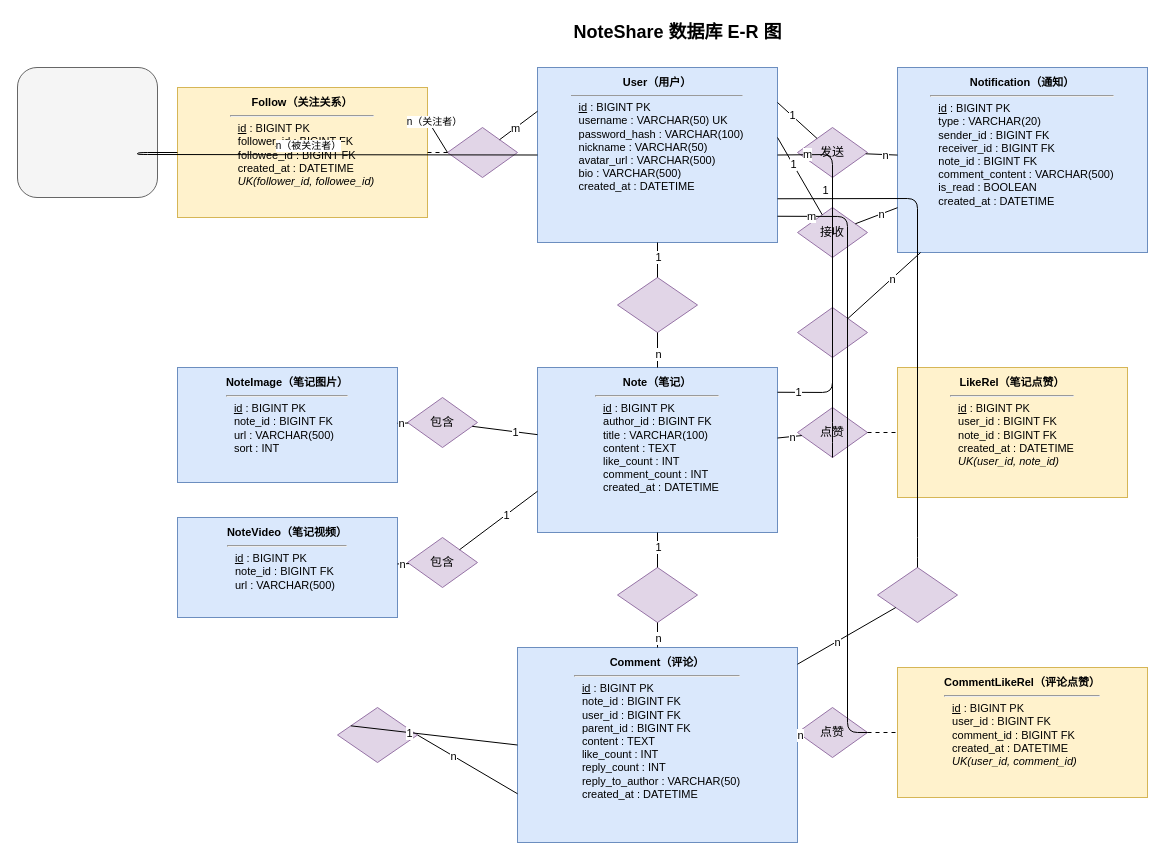
Some shapes in this 1165 by 860 pixel diagram are drawn without their labels. Each missing label, with the box of its shape:
关注: (446, 126, 518, 178)
关联: (796, 306, 868, 358)
发布: (616, 276, 698, 332)
发表: (876, 566, 958, 622)
回复: (336, 706, 418, 762)
图例 ■ 蓝色：实体 ■ 黄色：联系表（M:N 实现） ◆ 紫色：联系（菱形） 下划线 ：主键 PK FK：外键 | UK：唯一约束: (16, 66, 158, 198)
拥有: (616, 566, 698, 622)
